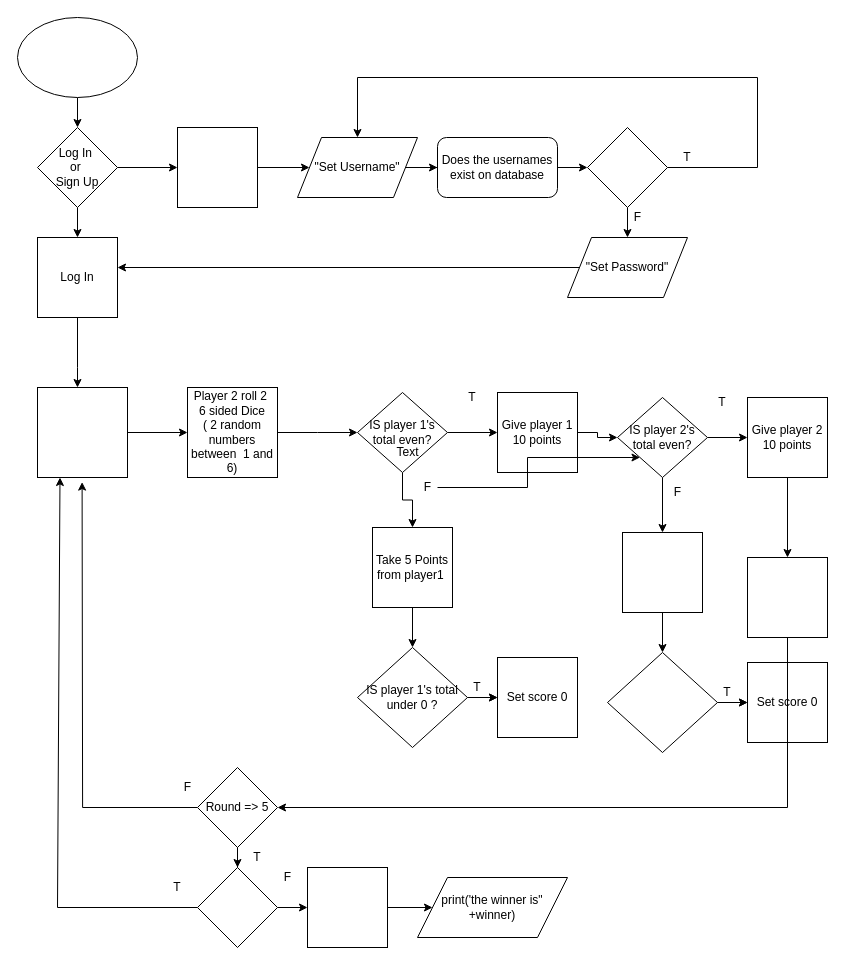
This 845x965 diagram has some shape labels left out. The centre of each missing label's shape, as x and y in pixels:
"Are both having same score >" belongs at point (237, 907).
"IS player 2's total under 0 ?" belongs at point (662, 702).
"Player 1 roll 2 6 sided Dice ( 2 random numbers between 1 and 6)" belongs at point (82, 432).
"Round = round +1" belongs at point (787, 597).
"Sign UP" belongs at point (217, 167).
"Start" belongs at point (77, 57).
"Take 5 Points from player 2" belongs at point (662, 572).
"winner = player with the highest score" belongs at point (347, 907).
